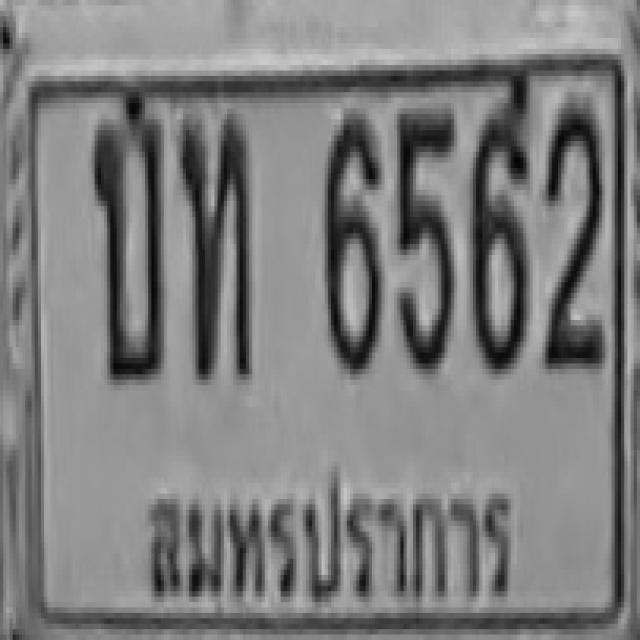2: (542, 98, 599, 364)
32ThorThaHan: (178, 114, 248, 374)
35BorBaiMai: (87, 100, 162, 377)
5: (394, 108, 451, 369)
6: (468, 92, 528, 369), (322, 111, 378, 372)
SamutPrakan: (136, 450, 520, 612)
